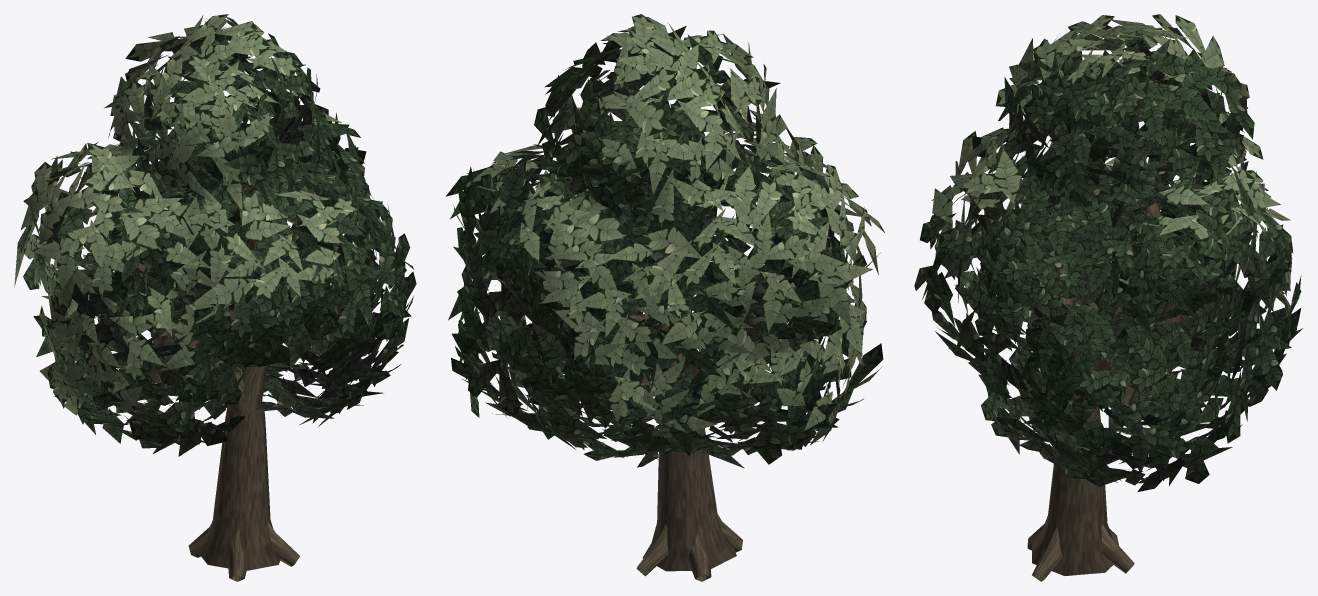
Rendered from tree_pair.glb.
3 renders of one model, left to right at view 1: azimuth 30°, elevation 25°; view 2: azimuth 150°, elevation 25°; view 3: azimuth 270°, elevation 25°, orthographic. The views are drawn at different scales.
Visible parts, largest first — view 1: tree_pair_lod0; view 2: tree_pair_lod0; view 3: tree_pair_lod0.
Part boxes in pixels (bbox=[...]): tree_pair_lod0: bbox=[14, 14, 416, 581]; tree_pair_lod0: bbox=[446, 14, 884, 581]; tree_pair_lod0: bbox=[914, 14, 1302, 581].
Bounding box in the file's own units: 2.18 × 2.82 × 1.82.
Materials: 1 (1 with a texture image).
